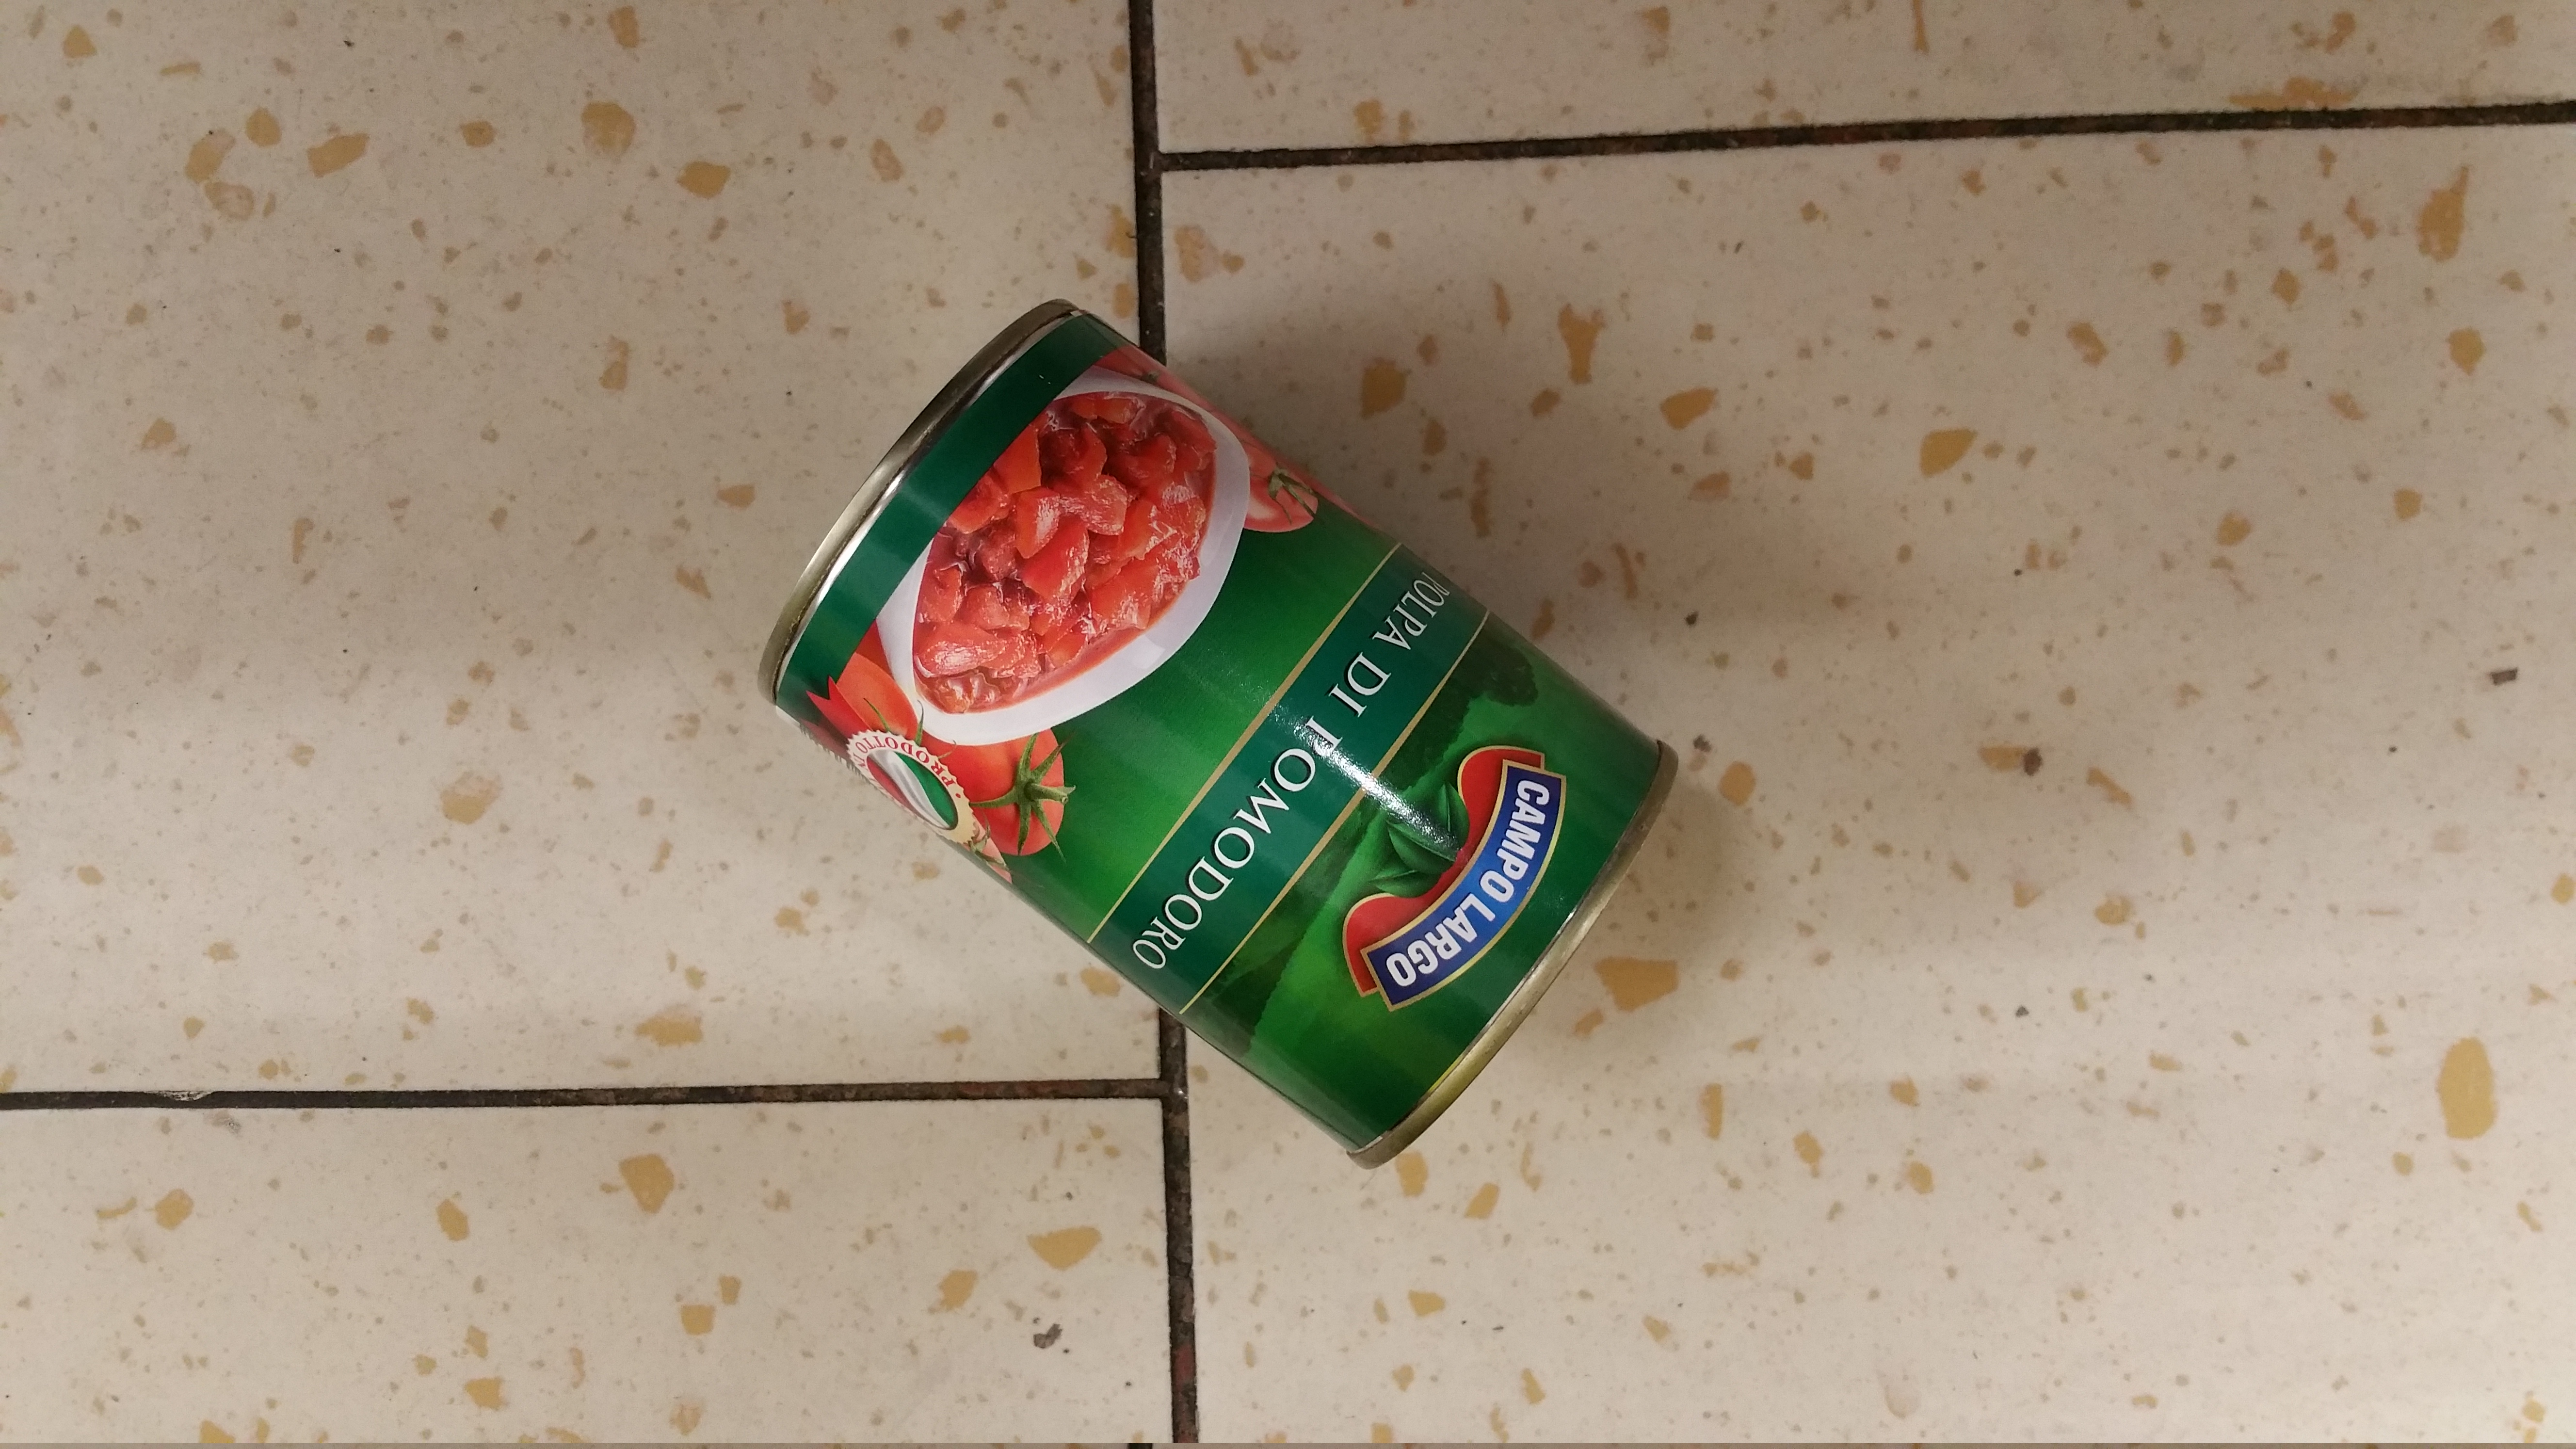metal: (729, 265, 1729, 1223)
